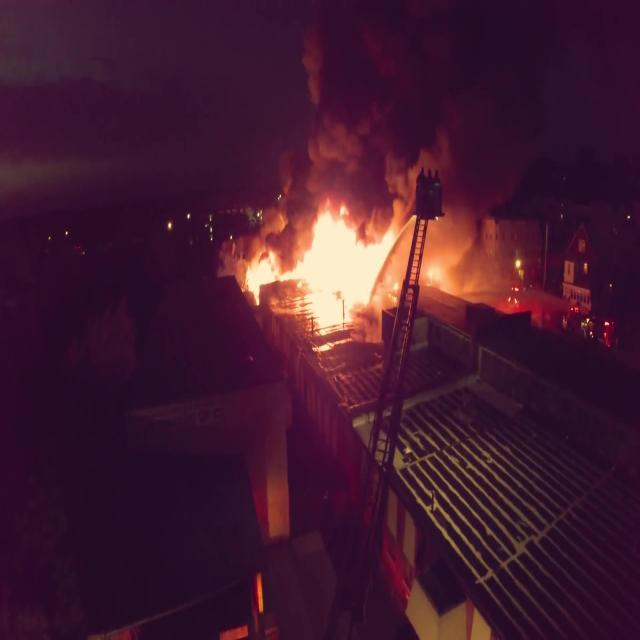Fire: (232, 216, 446, 319)
Smoke: (234, 0, 538, 260)
